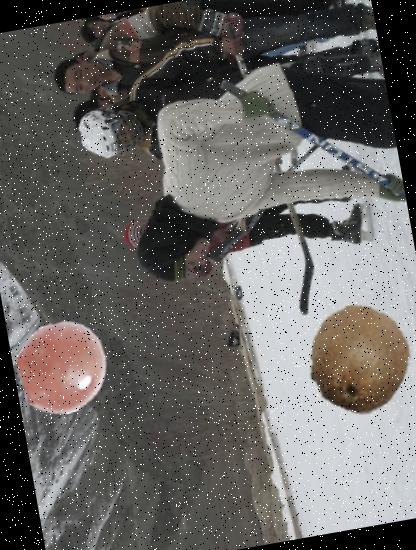Kiwi: (295, 295, 416, 422)
Redcurrant: (11, 314, 116, 420)
